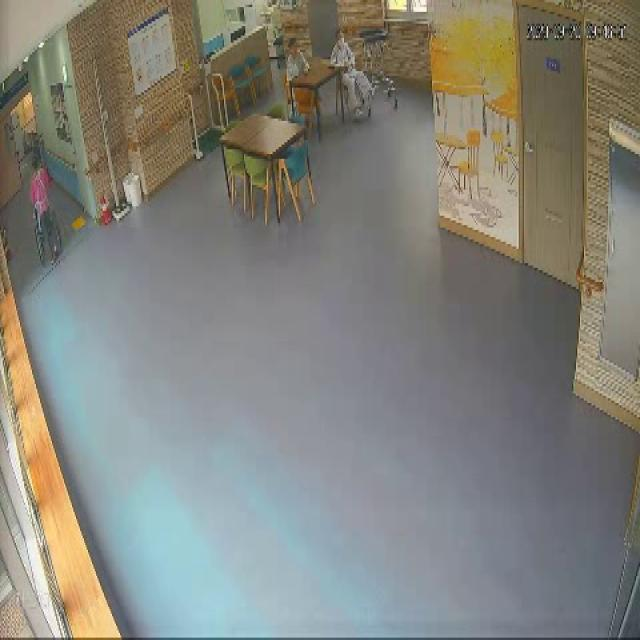patient: (328, 31, 377, 122), (280, 28, 310, 82)
sit: (328, 30, 376, 116)
